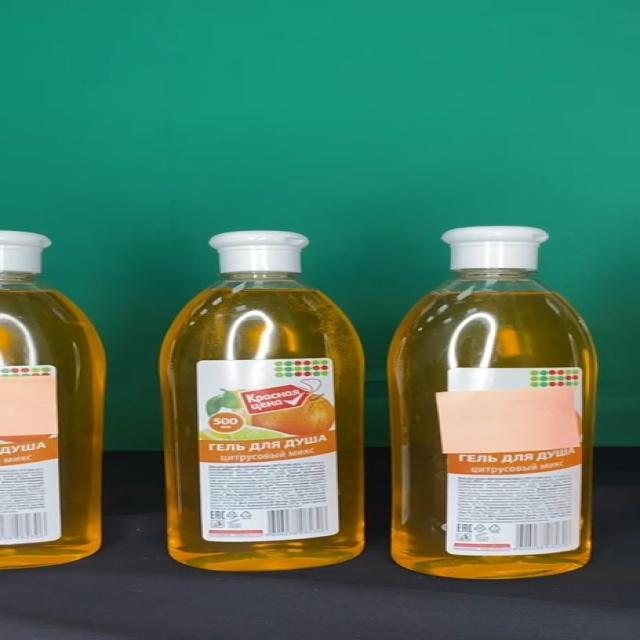Bottle: (386, 226, 597, 580), (158, 230, 366, 571)
Cap: (442, 227, 550, 270), (207, 231, 310, 273)
